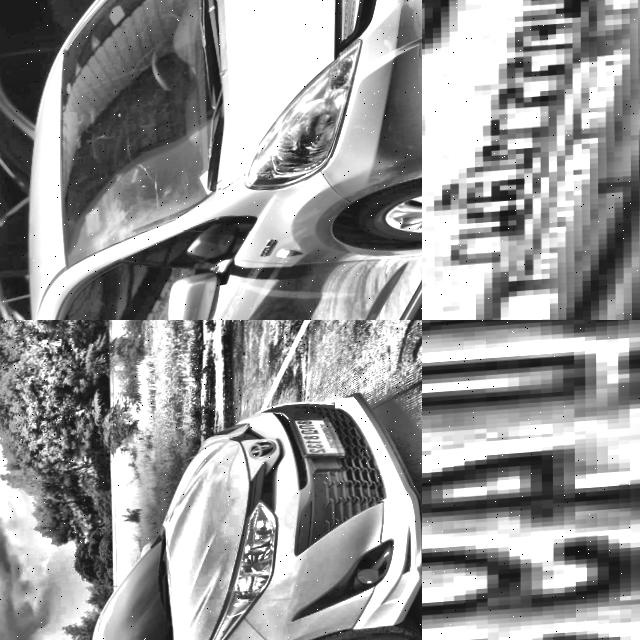license-plate: (422, 0, 640, 320), (422, 320, 640, 640), (290, 425, 345, 463)
